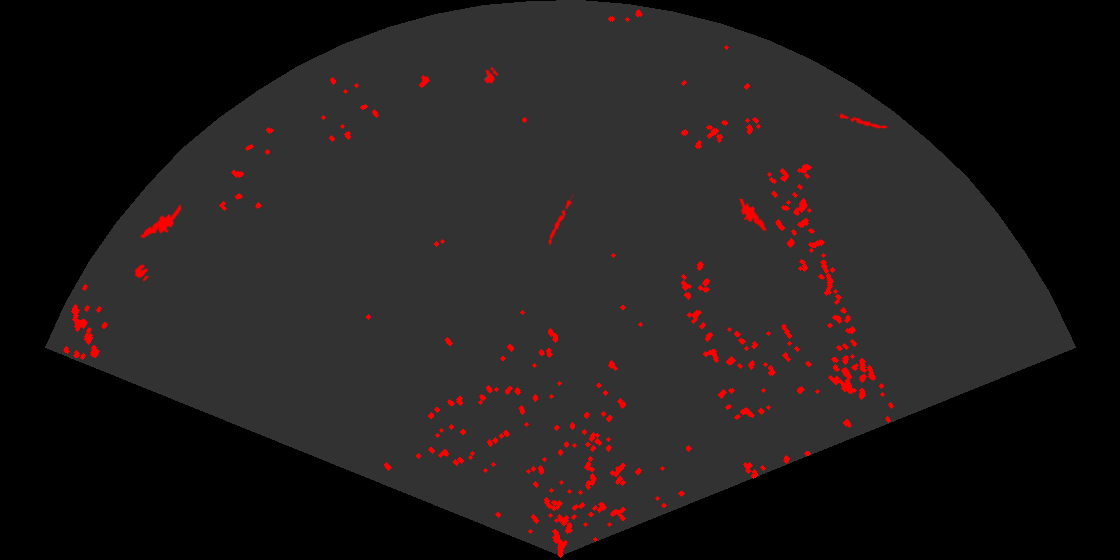ball: (133, 263, 150, 283), (483, 66, 500, 85)
chain: (547, 194, 576, 246), (835, 112, 888, 131)
frogman: (138, 205, 181, 243), (738, 199, 768, 238)
